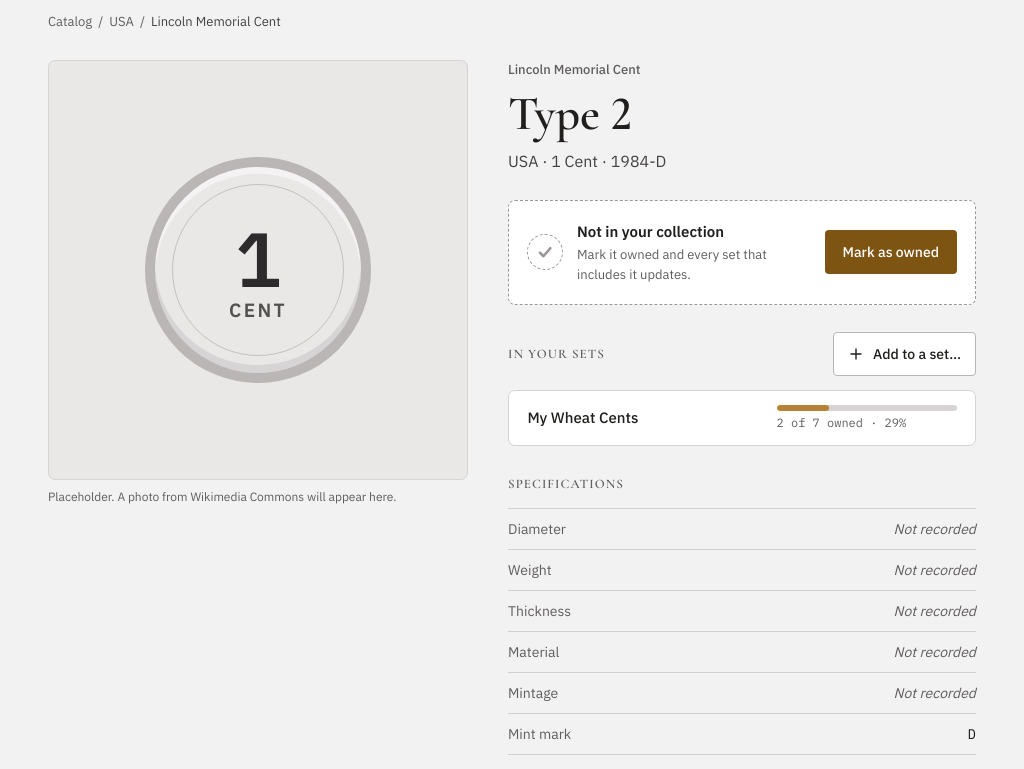
CoinDetailPage › run_20261019_205931 criteria 10-11: Add to a set menu › shows Added and announces success after the add resolves, keeping the menu open
The image size is (1024, 769).
Check: the element with test id "coin-detail-sets" is shown, box [508,332,976,446]
Click the button with test id "coin-detail-add-to-set": (904, 354) [833,332,976,376]
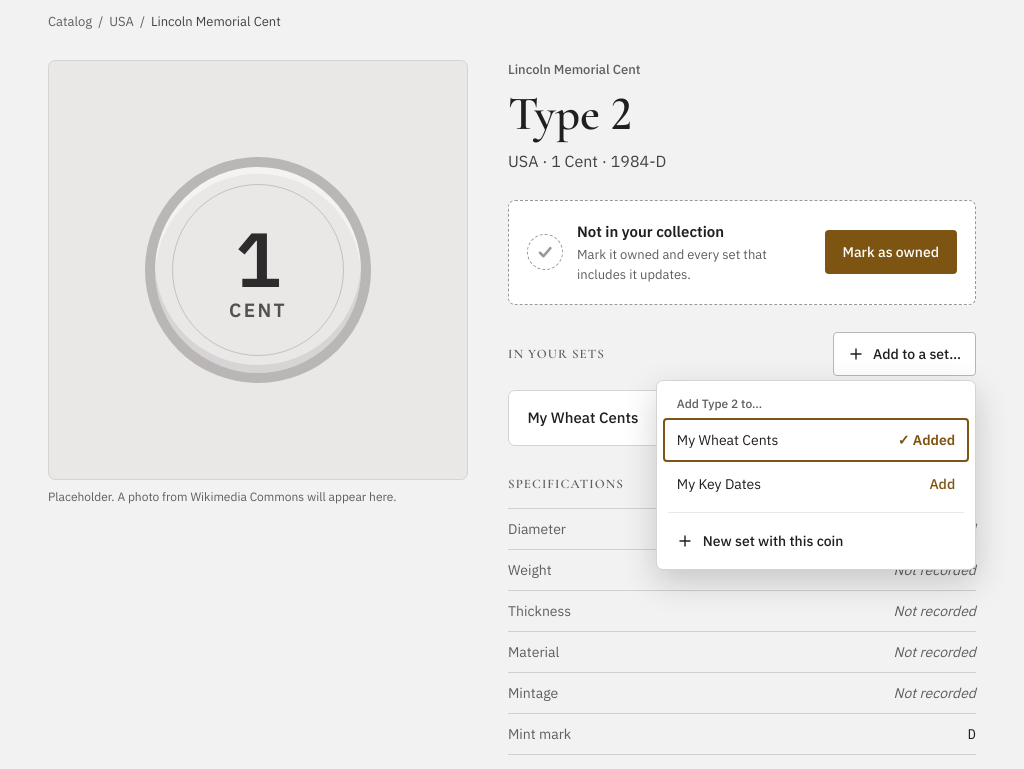
Click the menu item with test id "coin-detail-add-to-set-item": (719, 484) [663,462,969,506]
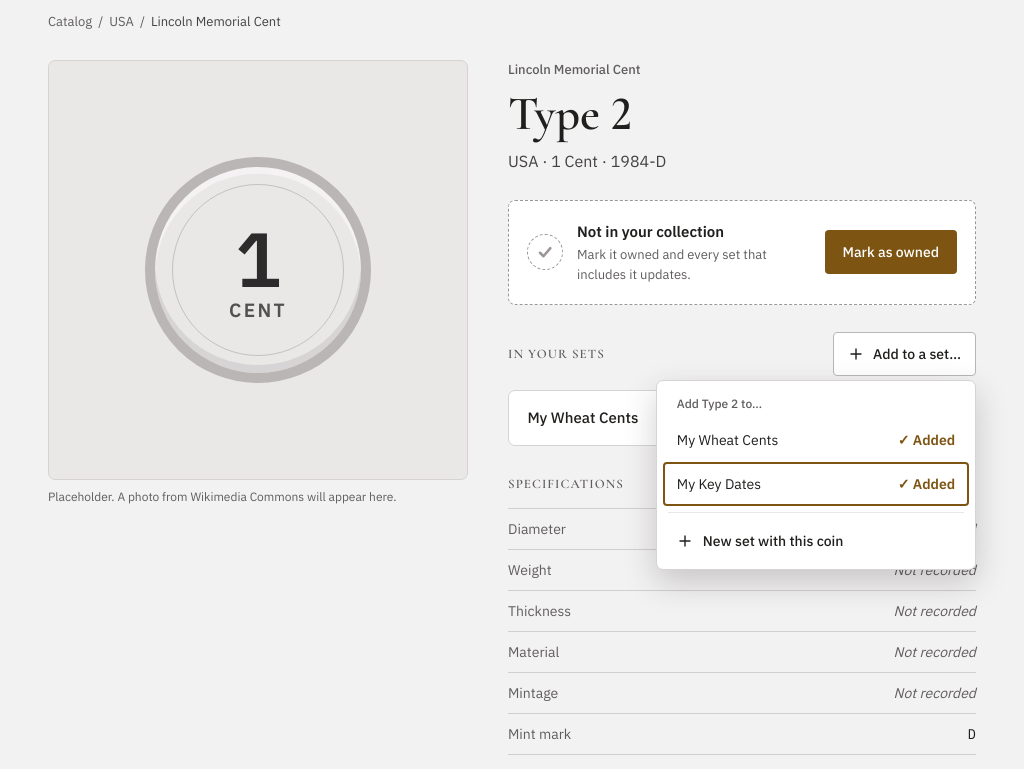
Check: the menu with test id "coin-detail-add-to-set-menu" is shown, box [656,380,976,570]
Check: the menu item with test id "coin-detail-add-to-set-item" shows "✓ Added", box [663,462,969,506]
